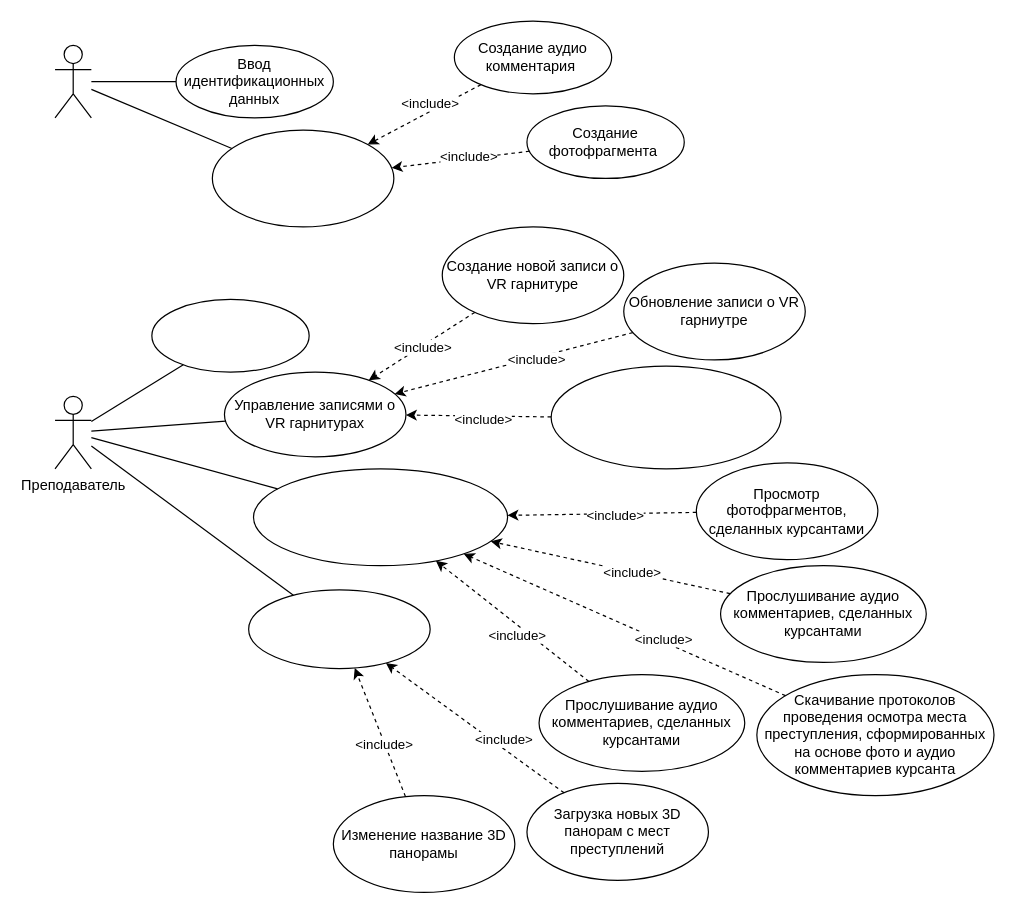
Some shapes in this 1015 by 914 pixel diagram are drawn without their labels. The box of each missing label's shape, as (x1, y1, x2, y2) in pixels:
Ввод аутентификационных данных: (151, 298, 309, 372)
Выбор 3D панорамы, которая будет использоваться VR гарнитурой: (550, 365, 781, 469)
Выполнение осмотра места преступления: (211, 129, 394, 227)
Курсант: (54, 44, 91, 118)
Просмотр записей о сеансах курсантов, с осмотром мест преступлений: (252, 468, 508, 566)
Управление 3D панорамами с мест преступления: (247, 589, 430, 669)
